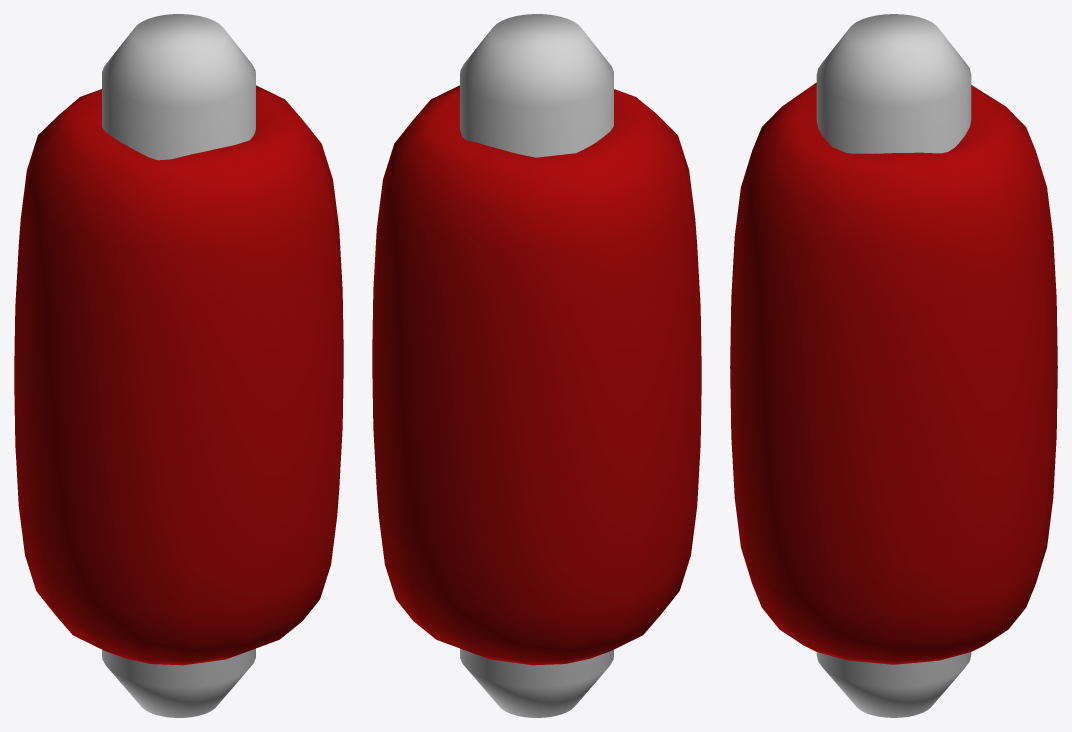
File: punch-target-red-v2.glb
3 views of the same model, side by side, from view 1: azimuth 30°, elevation 25°; view 2: azimuth 150°, elevation 25°; view 3: azimuth 270°, elevation 25° (orthographic).
Visible parts, largest first — view 1: Cube, Cylinder; view 2: Cube, Cylinder; view 3: Cube, Cylinder.
Boxes of the visible parts, x1,y1,x2,y2 form: Cube: (14, 85, 343, 665); Cylinder: (102, 14, 255, 717); Cube: (372, 85, 701, 665); Cylinder: (460, 14, 613, 717); Cube: (730, 82, 1057, 664); Cylinder: (816, 14, 971, 717).
Size of the model in its own units: 0.3179 by 0.7144 by 0.3179.
